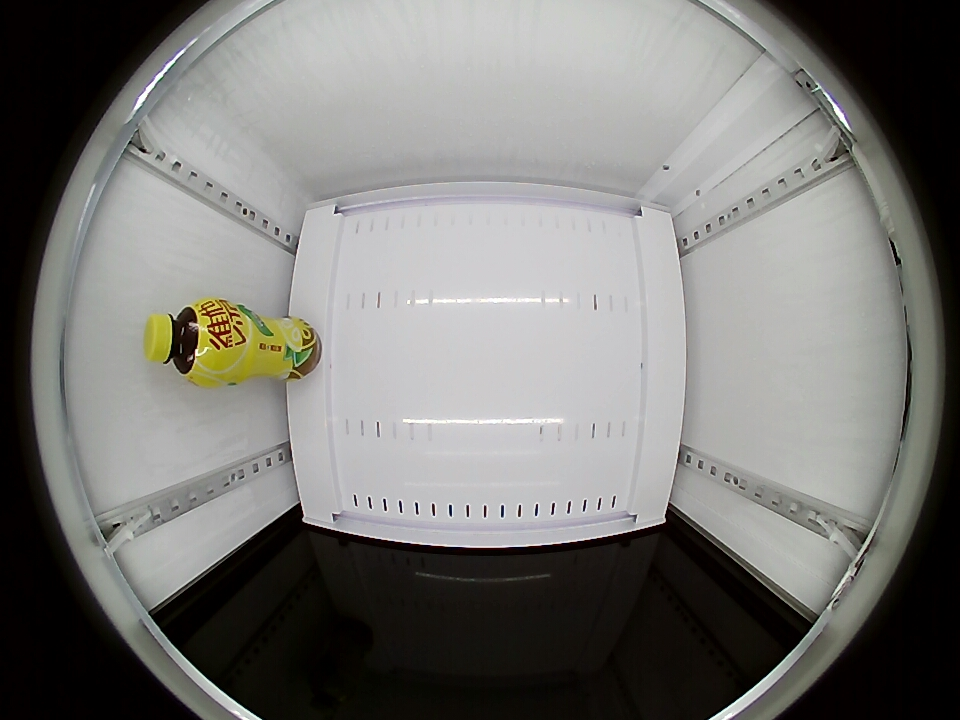weitaningmeng-bottle: (143, 299, 231, 385)
